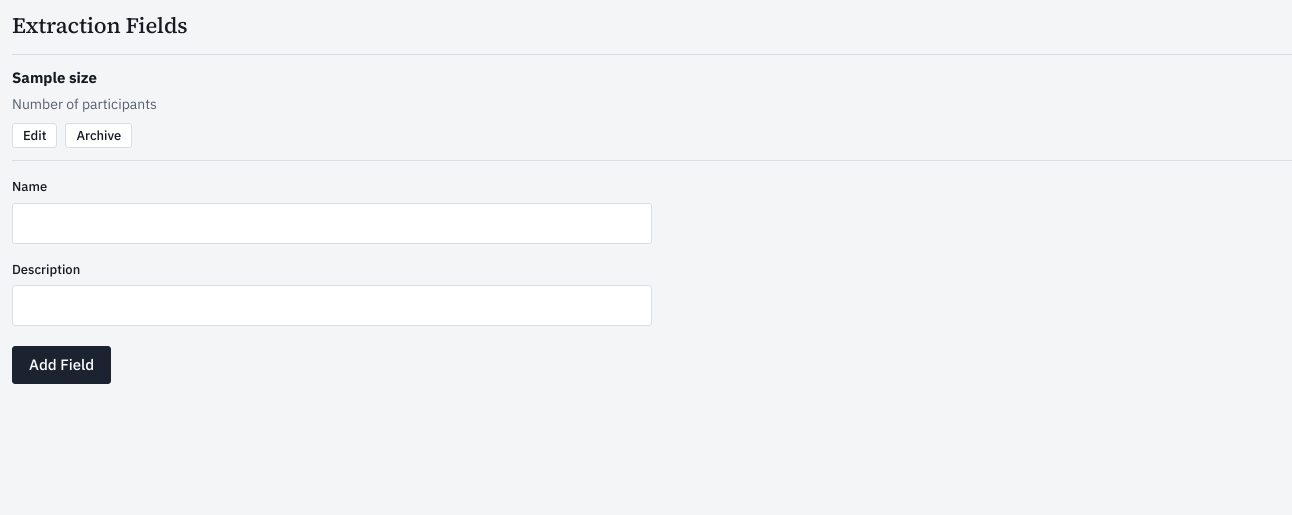
Test: ExtractionFieldsPanel › edits a field's name and description
Click the button "Edit": (35, 136) [12,123,58,148]
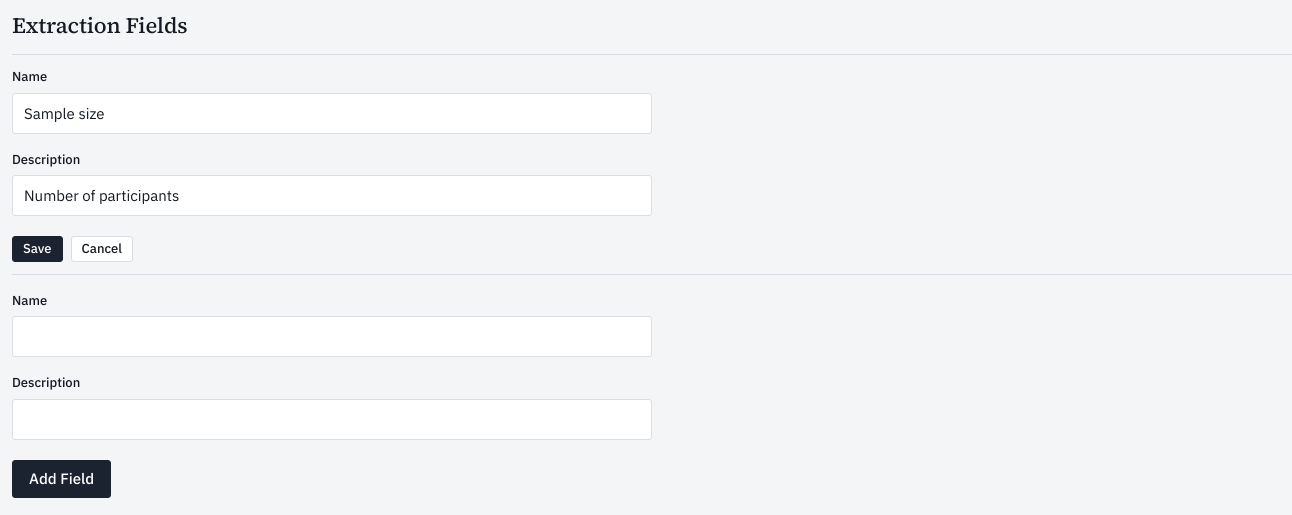
Replace the text in the 1st field showing "Sample size" with "Sample size (n)": (332, 113) [12,93,652,134]
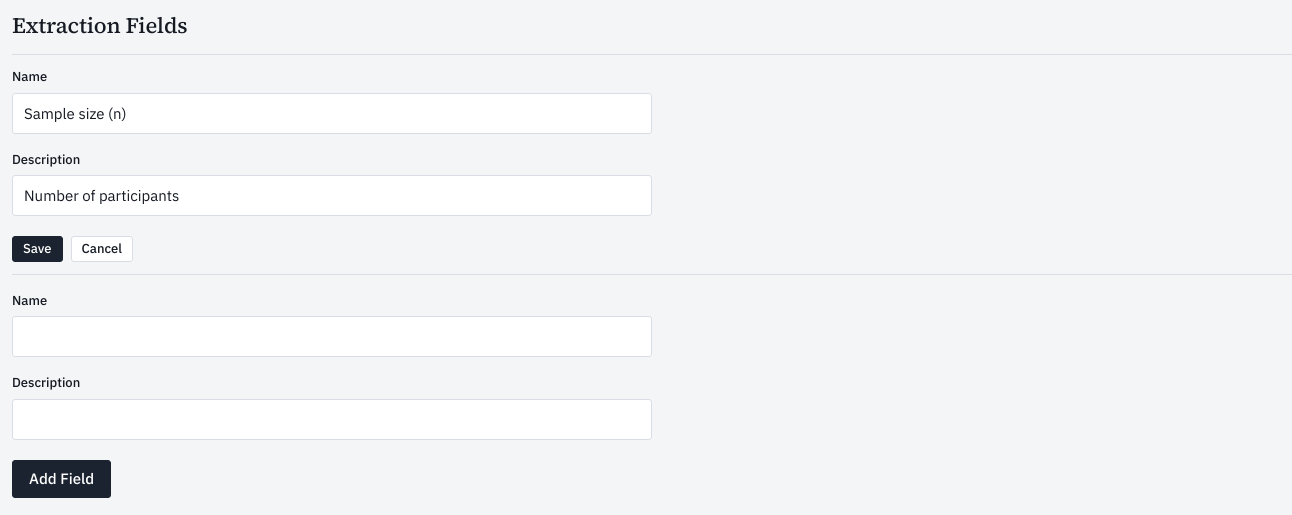
Replace the text in the 1st field showing "Number of participants" with "Total enrolled": (332, 196) [12,175,652,216]
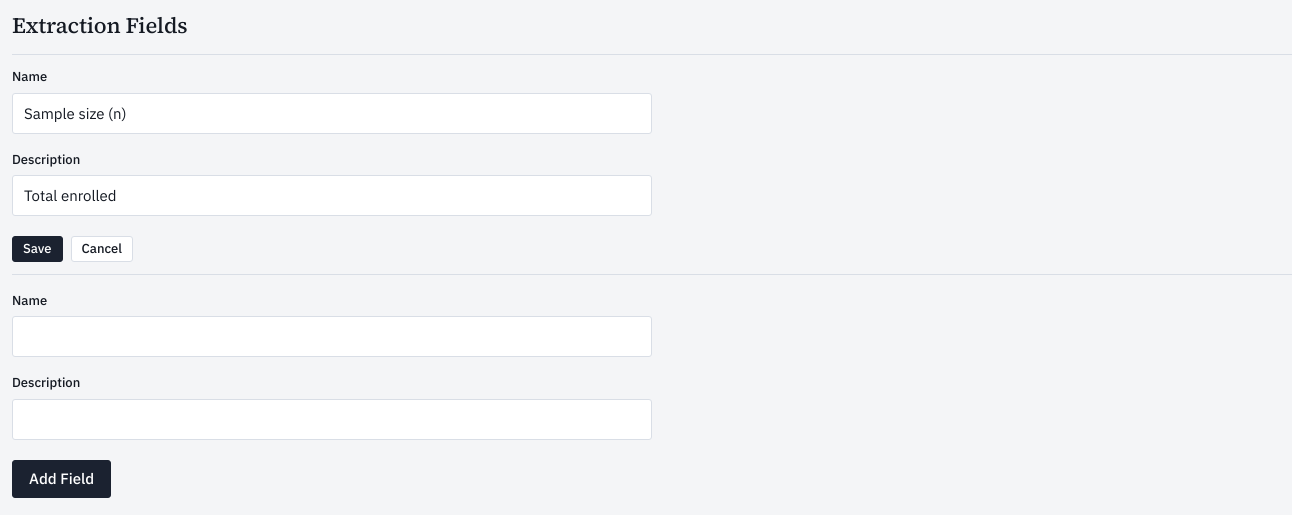
Click the button "Save": (37, 249) [12,236,63,262]
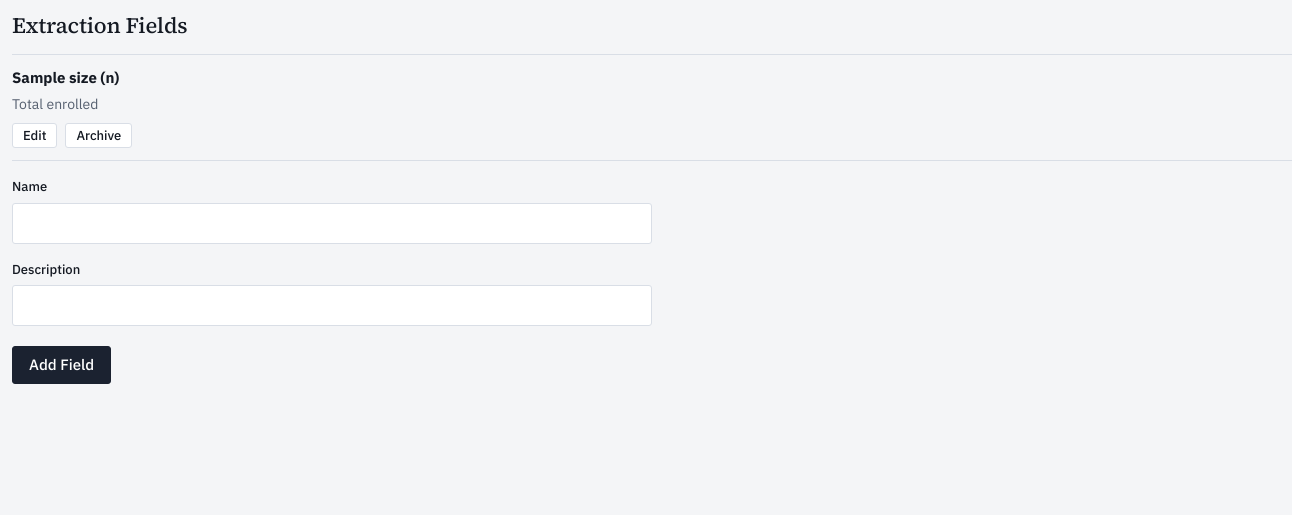
Expected: the text "Sample size (n)" is shown, [12,68,119,87]
